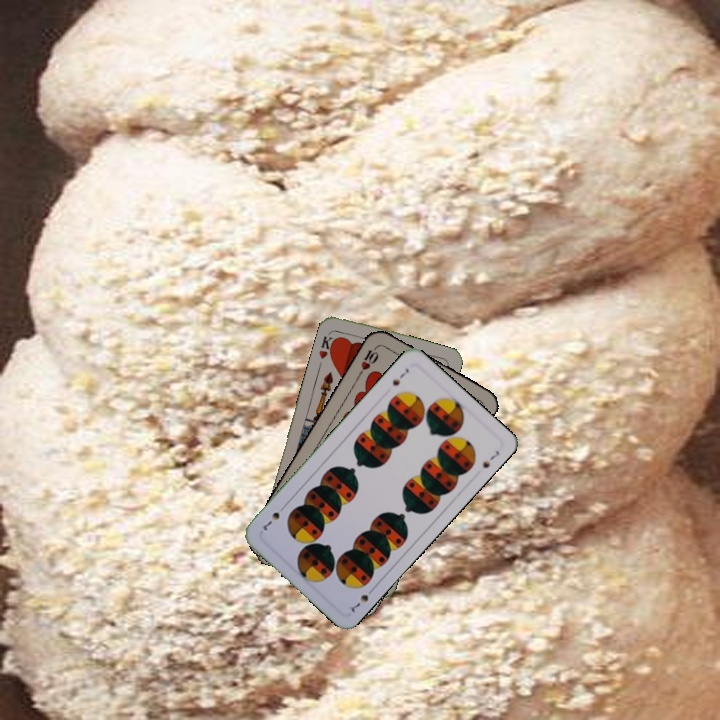H10: (355, 341, 381, 378)
HK: (315, 327, 339, 361)
S7: (344, 583, 377, 615), (388, 364, 411, 388)
